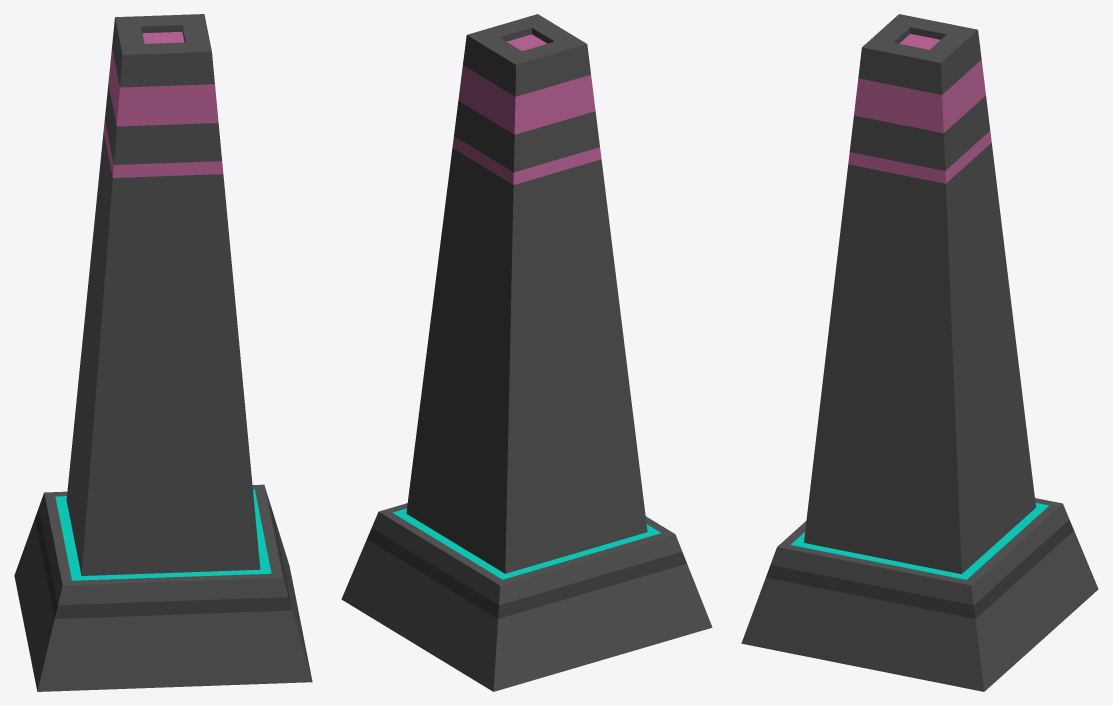
File: Stone_Pilar_2.fbx
3 views of the same model, side by side, from view 1: azimuth 30°, elevation 25°; view 2: azimuth 150°, elevation 25°; view 3: azimuth 270°, elevation 25° (orthographic). The views are drawn at different scales.
Visible parts, largest first — view 1: Stone_Pilar_2; view 2: Stone_Pilar_2; view 3: Stone_Pilar_2.
Part boxes in pixels (bbox=[...]): Stone_Pilar_2: bbox=[14, 14, 312, 691]; Stone_Pilar_2: bbox=[341, 14, 712, 691]; Stone_Pilar_2: bbox=[741, 14, 1098, 691].
Bounding box in the file's own units: 266 × 475 × 266.
